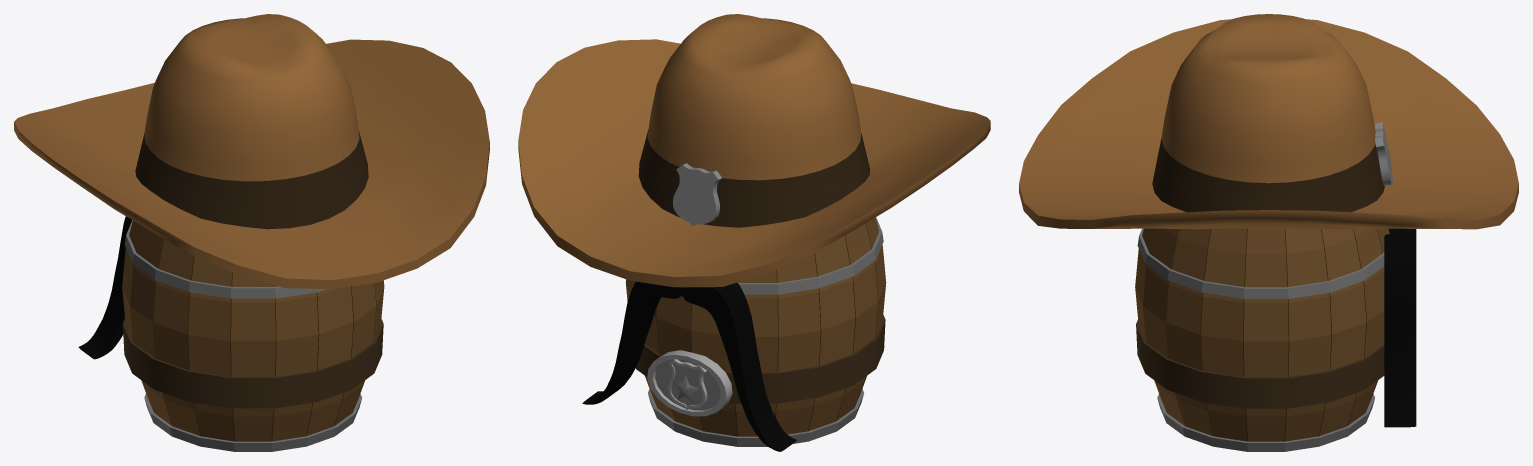
The model's file is barrel deputy 2 upgrade 1.fbx.
3 views of the same model, side by side, from view 1: azimuth 30°, elevation 25°; view 2: azimuth 150°, elevation 25°; view 3: azimuth 270°, elevation 25° (orthographic).
Visible parts, largest first — view 1: barrel deputy; view 2: barrel deputy; view 3: barrel deputy.
Boxes of the visible parts, x1,y1,x2,y2 form: barrel deputy: (14,14,489,451); barrel deputy: (518,14,990,451); barrel deputy: (1019,14,1518,451).
Size of the model in its own units: 975 by 862 by 1060.
